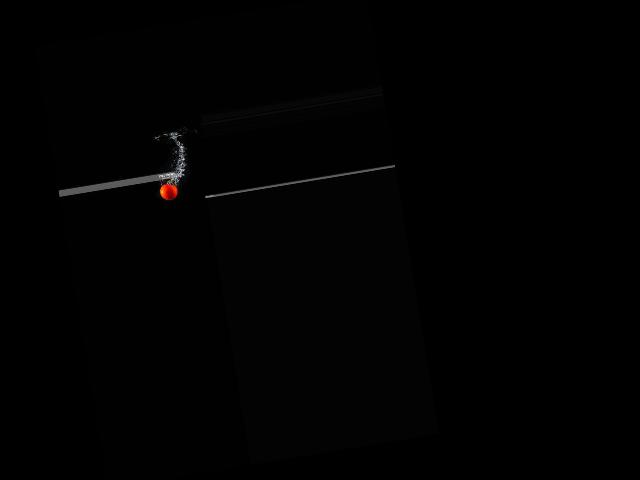tomato: (158, 182, 178, 200)
